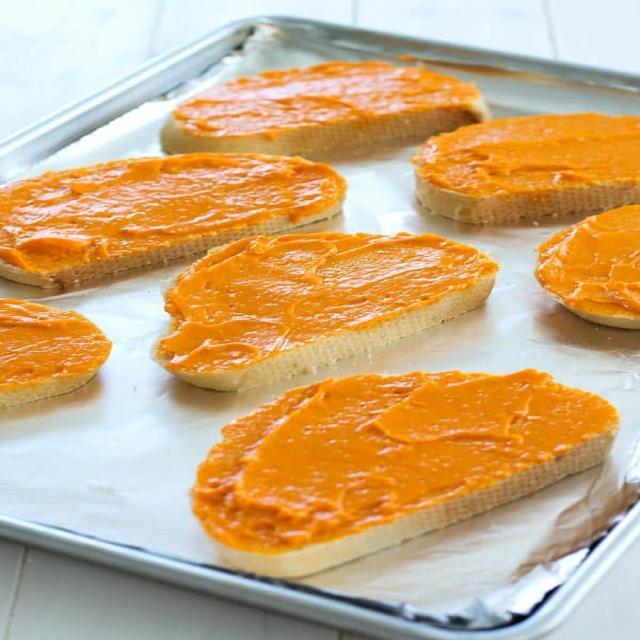Spread: (201, 369, 593, 544), (178, 244, 460, 350), (7, 171, 340, 255), (181, 72, 459, 134), (423, 113, 639, 182), (549, 211, 639, 310)
